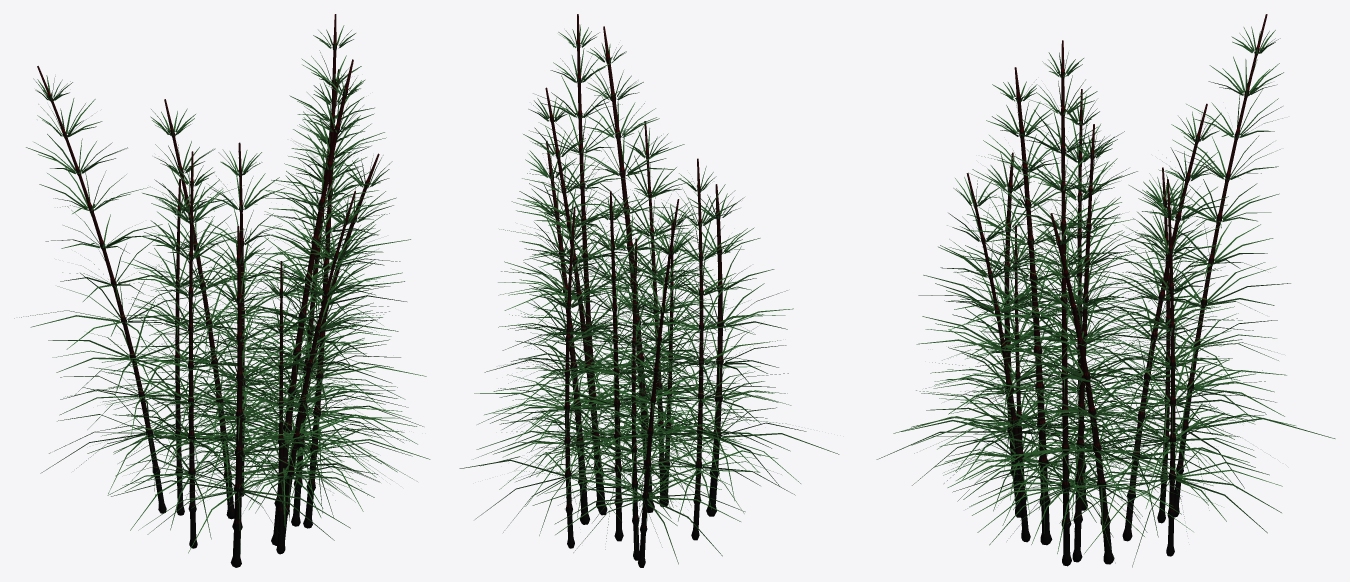
Rendered from horsetail_v02.glb.
3 renders of one model, left to right at view 1: azimuth 30°, elevation 25°; view 2: azimuth 150°, elevation 25°; view 3: azimuth 270°, elevation 25°, orthographic. The views are drawn at different scales.
Visible parts, largest first — view 1: horsetail_v02; view 2: horsetail_v02; view 3: horsetail_v02.
Part boxes in pixels (bbox=[...]): horsetail_v02: bbox=[14, 14, 430, 567]; horsetail_v02: bbox=[459, 14, 839, 567]; horsetail_v02: bbox=[876, 14, 1335, 567].
Size of the model in its own units: 0.3666 by 0.546 by 0.4226.
Materials: 2 (2 with a texture image).
